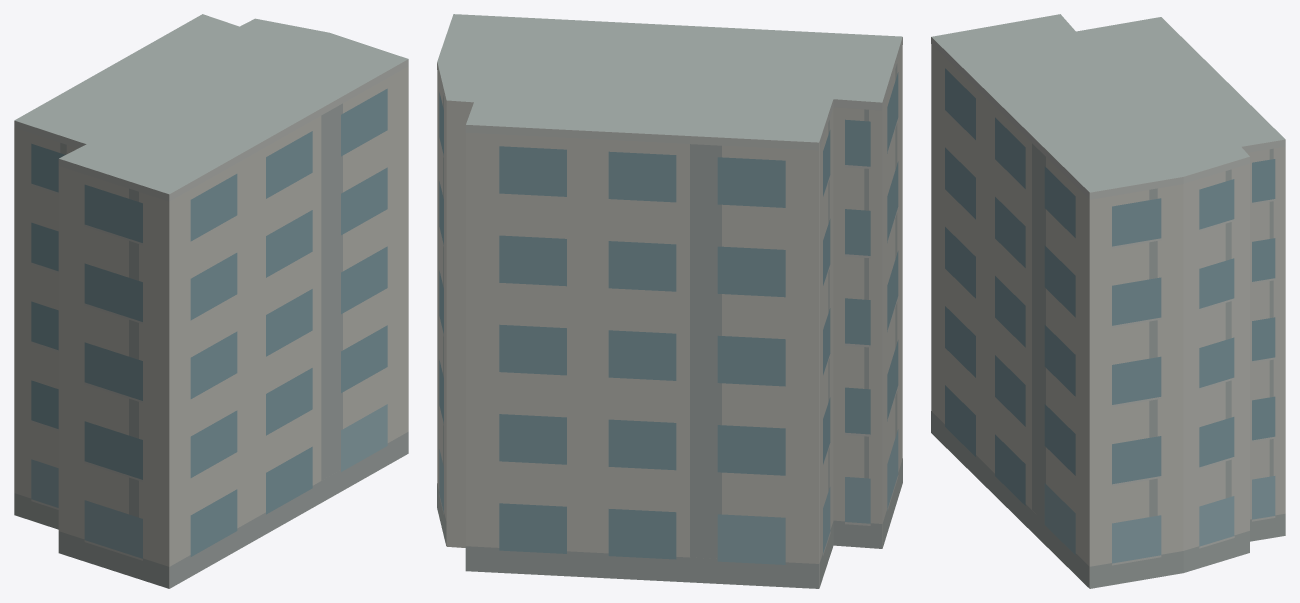
The model's file is survey-upis-32625199.glb.
3 renders of one model, left to right at view 1: azimuth 30°, elevation 25°; view 2: azimuth 150°, elevation 25°; view 3: azimuth 270°, elevation 25°, orthographic. The views are drawn at different scales.
Visible parts, largest first — view 1: survey-upis-32625199.tmp; view 2: survey-upis-32625199.tmp; view 3: survey-upis-32625199.tmp.
Boxes of the visible parts, left/top/right/bottom form: survey-upis-32625199.tmp: left=14, top=14, right=408, bottom=588; survey-upis-32625199.tmp: left=437, top=14, right=902, bottom=588; survey-upis-32625199.tmp: left=931, top=14, right=1285, bottom=588.
Bounding box in the file's own units: 13.07 × 13.5 × 10.96.
